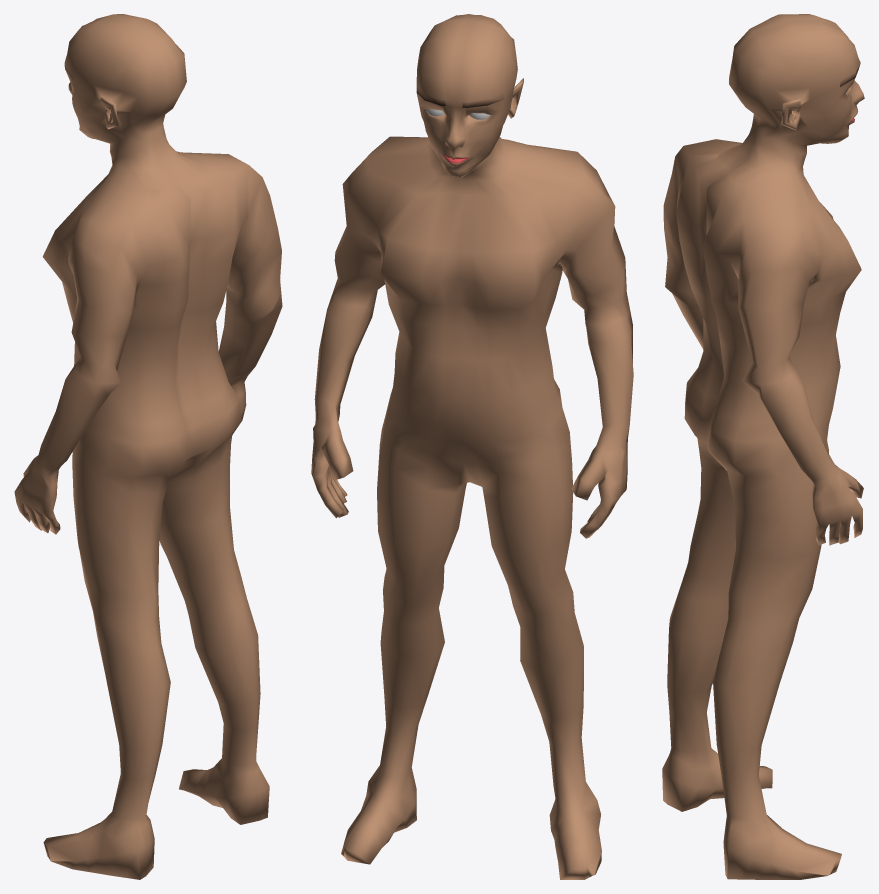
File: boneco19.glb
The picture shows the model from 3 angles, left to right: view 1: azimuth 30°, elevation 25°; view 2: azimuth 150°, elevation 25°; view 3: azimuth 270°, elevation 25°; orthographic projection. The views are drawn at different scales.
Parts seen in each view (by area): view 1: Plane.018; view 2: Plane.018; view 3: Plane.018.
Part boxes in pixels (<box>): Plane.018: <box>14,14,282,879</box>; Plane.018: <box>311,14,633,879</box>; Plane.018: <box>662,14,864,879</box>.
Bounding box in the file's own units: 1.21 × 3.47 × 0.7893.
